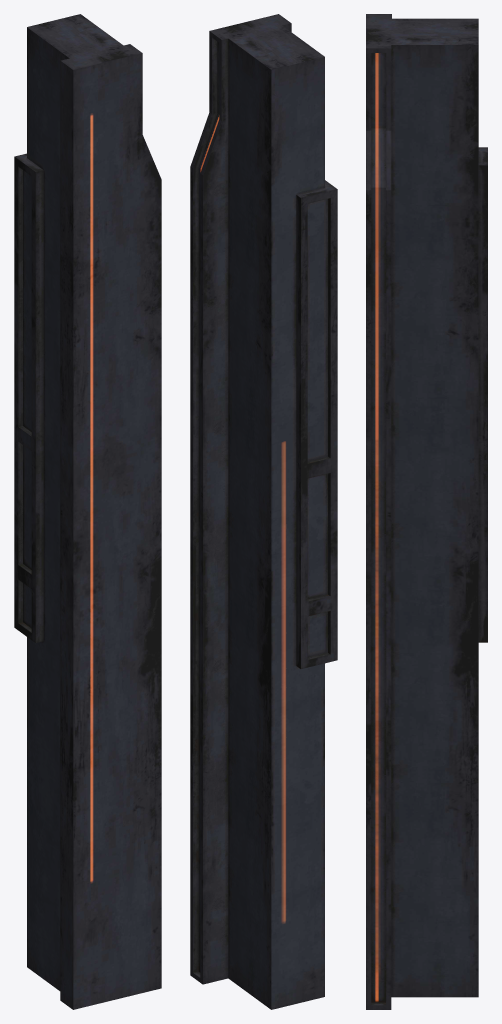
3 renders of one model, left to right at view 1: azimuth 30°, elevation 25°; view 2: azimuth 210°, elevation 25°; view 3: azimuth 270°, elevation 25°, orthographic.
Visible parts, largest first — view 1: SB_02; view 2: SB_02; view 3: SB_02.
Part boxes in pixels (x1=…): SB_02: x1=14, y1=14, x2=161, y2=1009; SB_02: x1=190, y1=14, x2=337, y2=1009; SB_02: x1=366, y1=14, x2=487, y2=1009.
Bounding box in the file's own units: 769 × 7815 × 905.
1 material, 1 textured.
